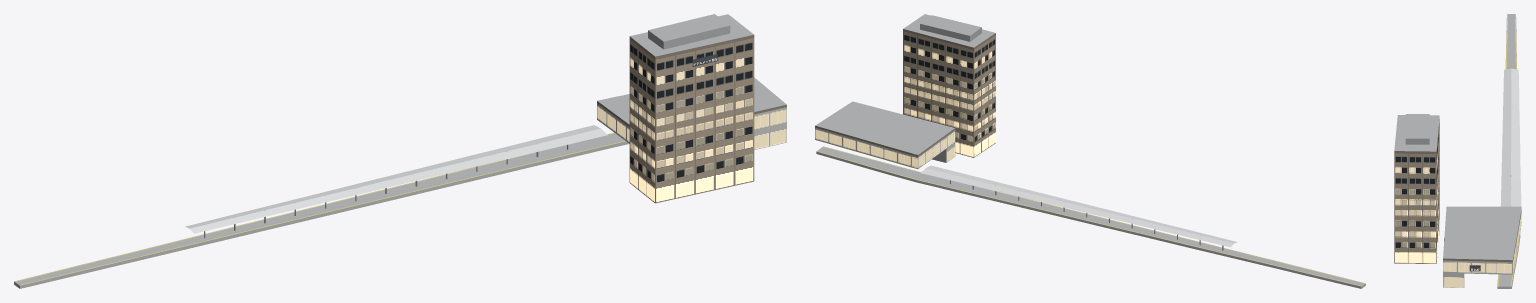
The model's file is mejiro_station.glb.
3 renders of one model, left to right at view 1: azimuth 30°, elevation 25°; view 2: azimuth 150°, elevation 25°; view 3: azimuth 270°, elevation 25°, orthographic. The views are drawn at different scales.
Visible parts, largest first — view 1: MJ_Station; view 2: MJ_Station; view 3: MJ_Station.
Part boxes in pixels (x1,y1,x2,y2): MJ_Station: [14, 14, 786, 288]; MJ_Station: [815, 14, 1365, 288]; MJ_Station: [1394, 14, 1521, 288].
Size of the model in its own units: 242 by 48.9 by 47.6.
10 materials, 2 textured.
